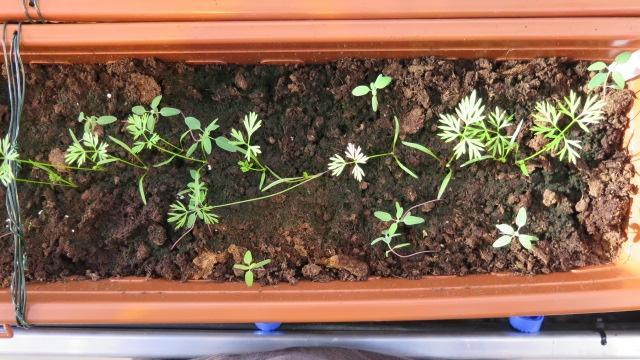weed: (487, 202, 543, 251), (223, 245, 274, 289)
